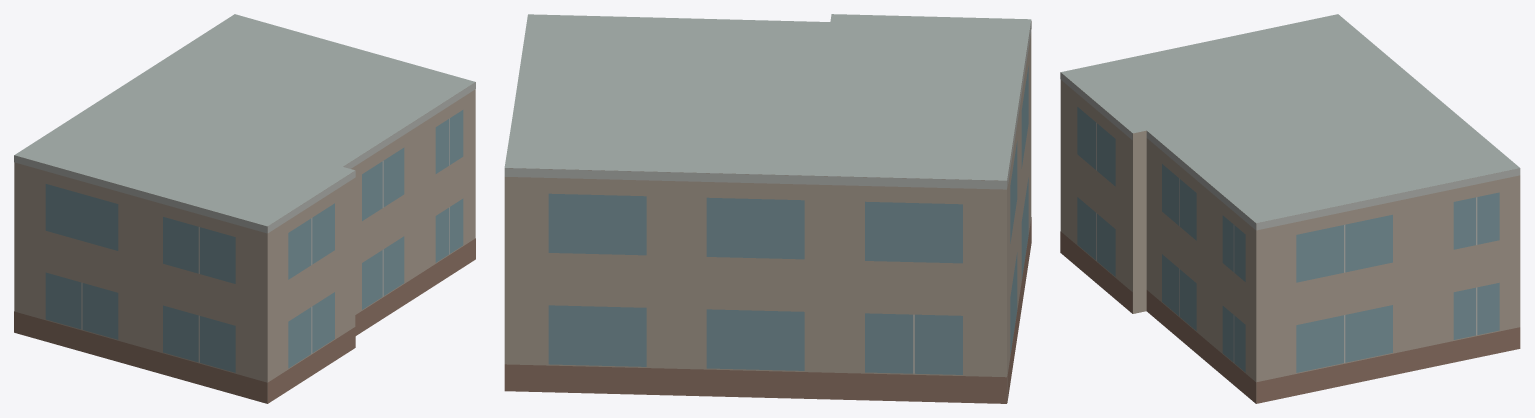
File: survey-upis-32699154.glb
The picture shows the model from 3 angles, left to right: view 1: azimuth 30°, elevation 25°; view 2: azimuth 150°, elevation 25°; view 3: azimuth 270°, elevation 25°; orthographic projection. The views are drawn at different scales.
Visible parts, largest first — view 1: survey-upis-32699154.tmp; view 2: survey-upis-32699154.tmp; view 3: survey-upis-32699154.tmp.
Part boxes in pixels (box(x1,y1,x2,y2)): survey-upis-32699154.tmp: box(14, 14, 475, 403); survey-upis-32699154.tmp: box(504, 14, 1031, 403); survey-upis-32699154.tmp: box(1060, 14, 1520, 403).
Bounding box in the file's own units: 15.17 × 6.1 × 14.08.
